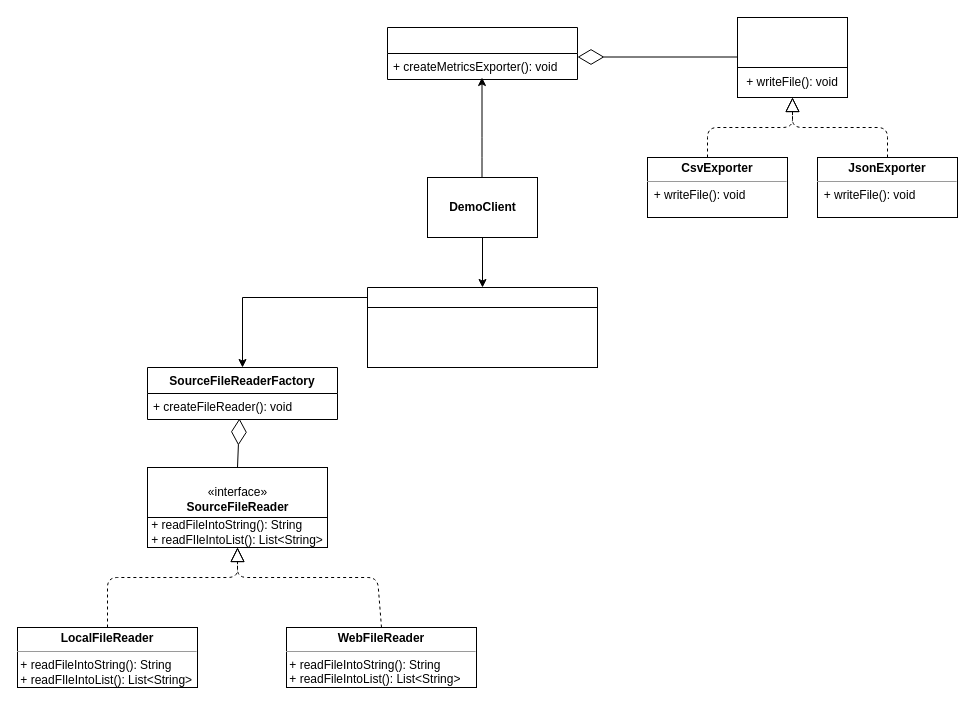
Some shapes in this 975 by 705 pixel diagram are drawn without their labels. The shapes that lost their labels are listed below. From the top down, each one's box as (x1, y1, x2, y2) in pixels, then its label:
(386, 26, 578, 80): MetricsExporterFactory
(736, 16, 848, 68): «interface» MetricsExporter
(366, 286, 598, 308): SourceCodeAnalyzer
(366, 306, 598, 368): + caculateNOM(): int + calculateNOC(): int + calculateLOC(): int
